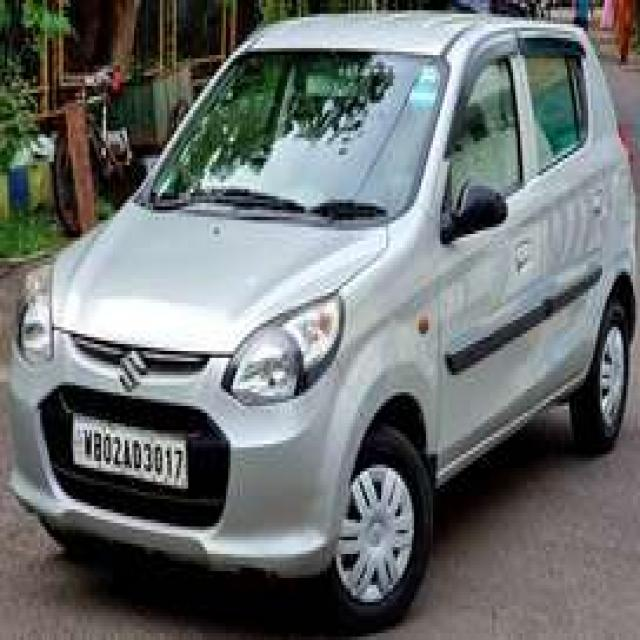Plate: (69, 411, 187, 490)
